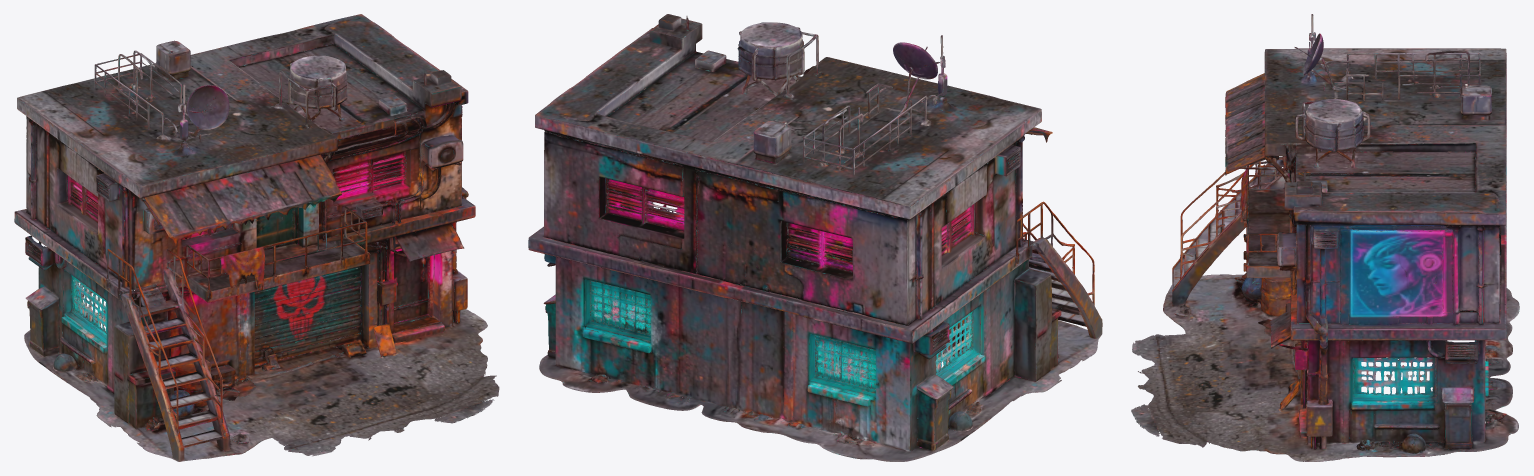
File: cyberpunk_building_1.glb
3 renders of one model, left to right at view 1: azimuth 30°, elevation 25°; view 2: azimuth 150°, elevation 25°; view 3: azimuth 270°, elevation 25°, orthographic. The views are drawn at different scales.
Parts seen in each view (by area): view 1: world; view 2: world; view 3: world.
Boxes of the visible parts, <box> form: world: <box>14,14,499,461</box>; world: <box>528,14,1102,461</box>; world: <box>1131,14,1519,461</box>.
Bounding box in the file's own units: 1.96 × 1.51 × 1.71.
Materials: 1 (1 with a texture image).
